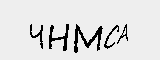А: (115, 20, 132, 44)
М: (70, 24, 101, 52)
Н: (47, 23, 70, 53)
С: (99, 21, 120, 49)
Ч: (27, 24, 45, 51)
